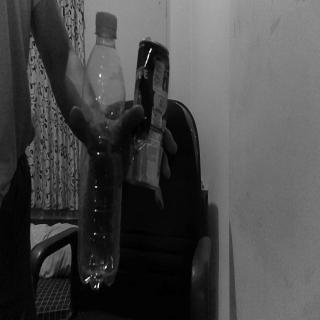alumunium_can: (128, 32, 168, 192)
plastic_bottles: (76, 13, 126, 295)
